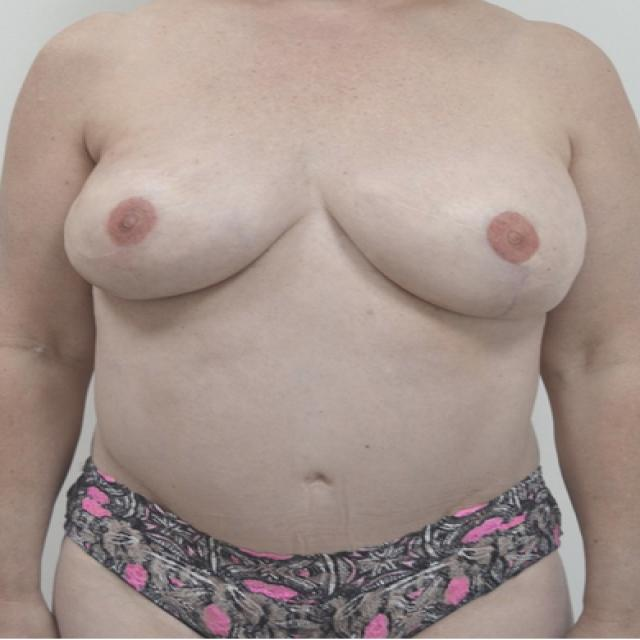Seno ileso: (319, 111, 595, 337), (57, 112, 316, 322)
